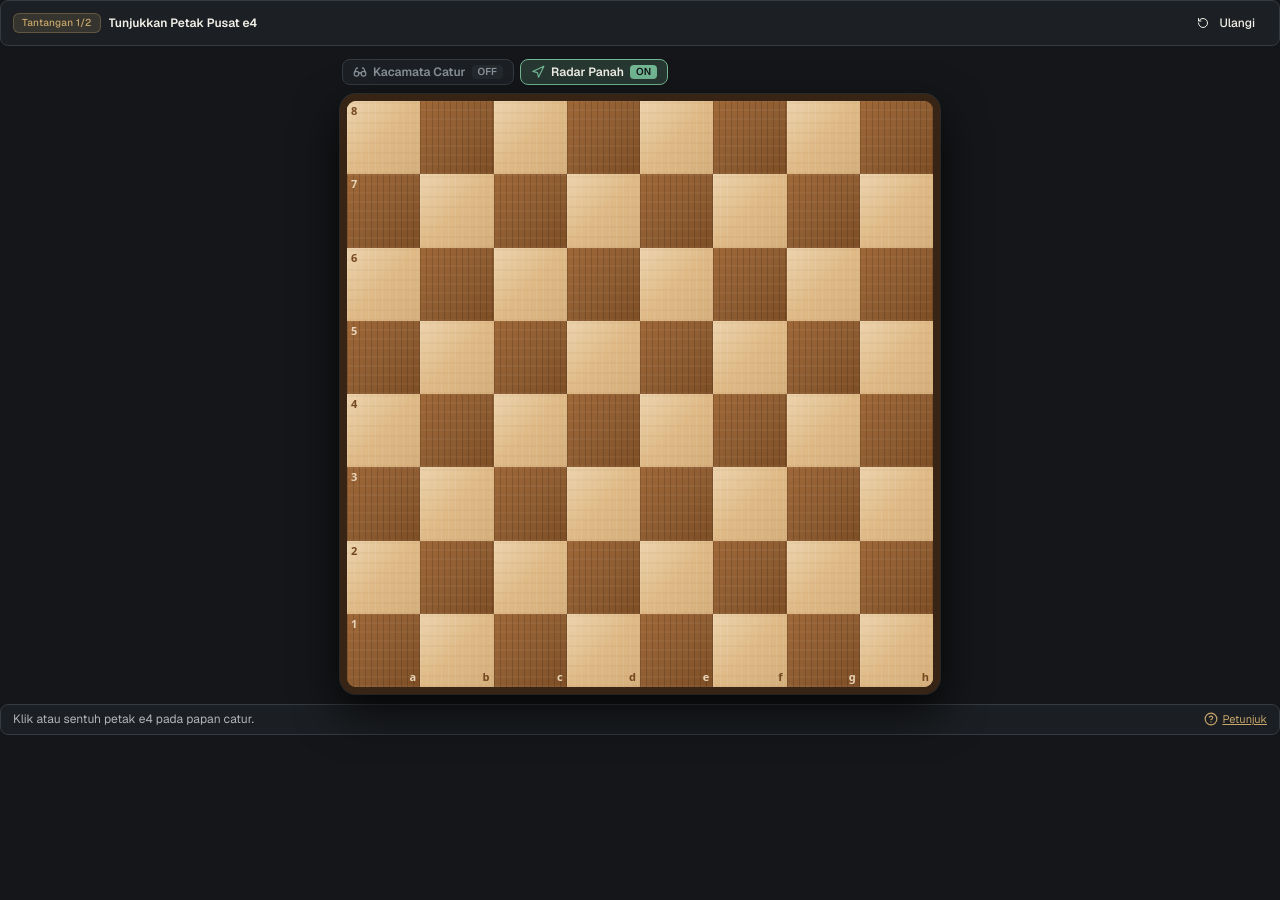
Test: InteractiveLessonBoard - Pop-up Step Completion Modal › opens pop-up modal when clicking wrong target square and resets step on 'Coba Lagi'
// Click on wrong square e5 instead of e4
Click the button named "Petak e5": point(677, 357) [640,321,713,394]
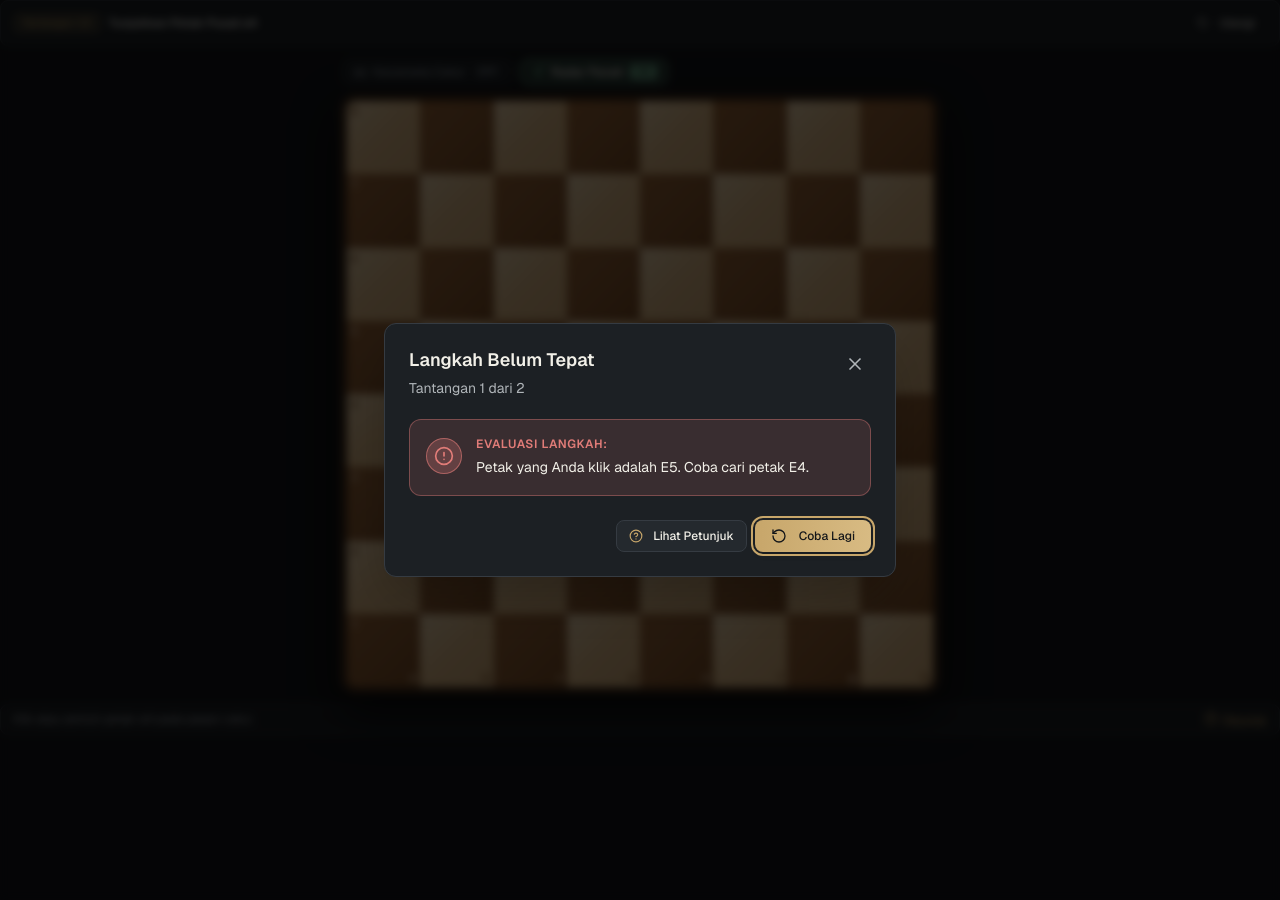
Result: the dialog is shown
Result: the heading "Langkah Belum Tepat" is shown at [409,348,594,373]
Result: the text "Petak yang Anda klik adalah E5. Coba cari petak E4." is shown at [476,456,809,479]
Click the button "Coba Lagi": point(813, 536) [755,520,871,552]
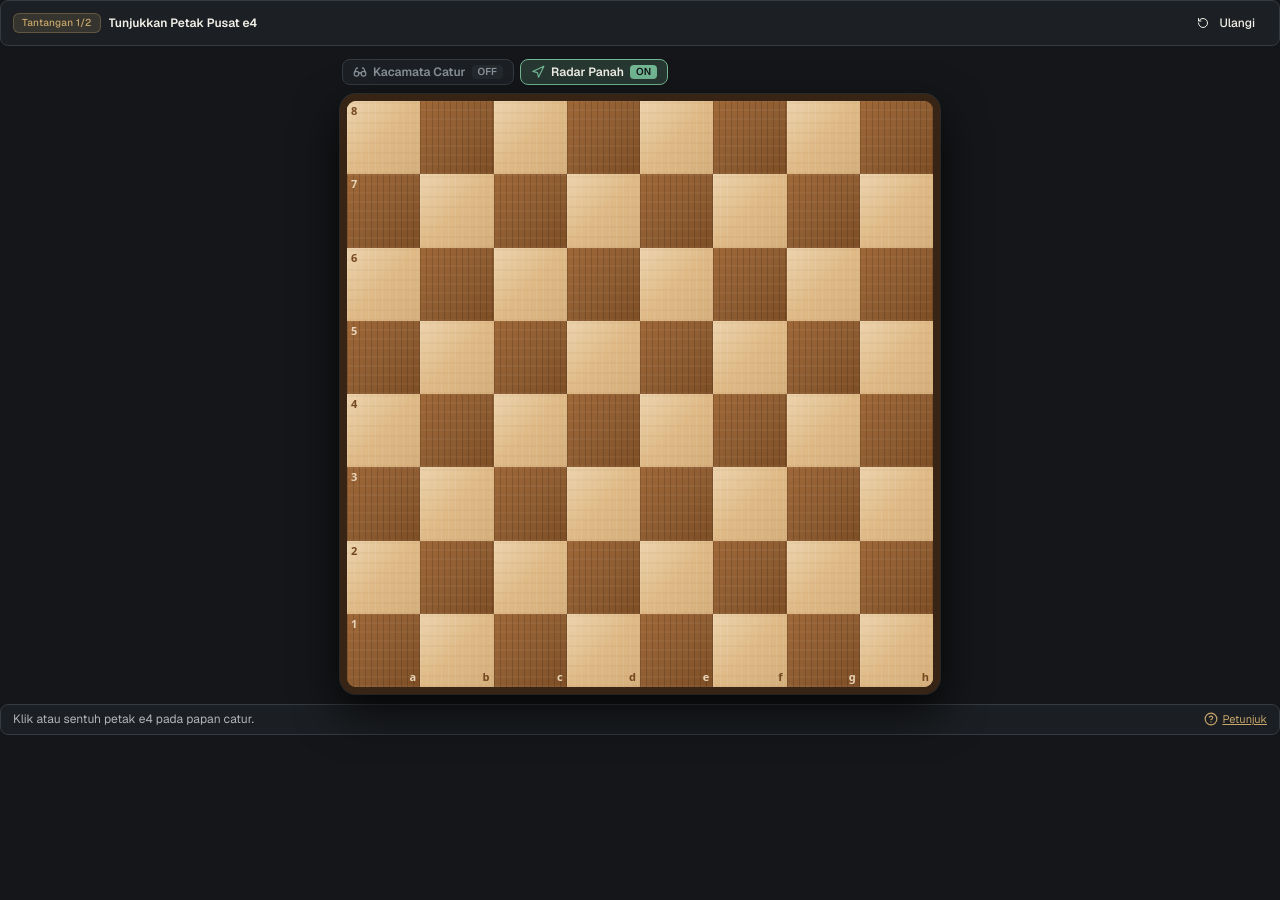
Result: the dialog is gone
